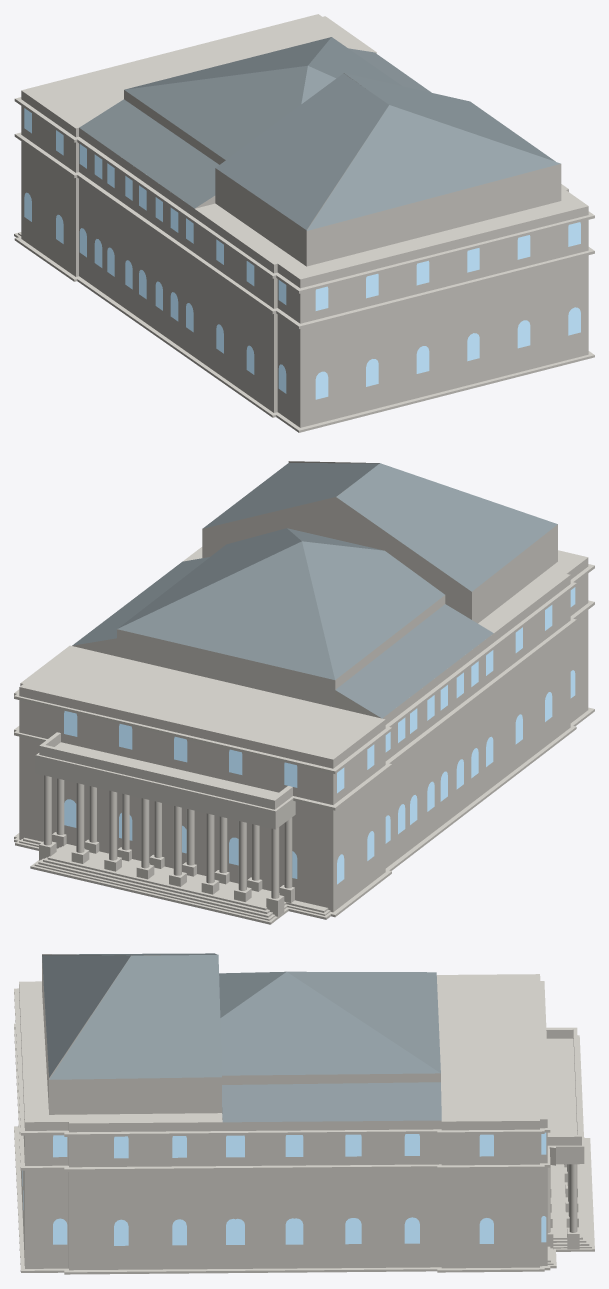
Rendered from detail.glb.
The picture shows the model from 3 angles, top to bottom: view 1: azimuth 30°, elevation 25°; view 2: azimuth 150°, elevation 25°; view 3: azimuth 270°, elevation 25°; orthographic projection. The views are drawn at different scales.
Visible parts, largest first — view 1: stone, roof, window; view 2: stone, roof, window; view 3: stone, roof, window.
Boxes of the visible parts, bbox=[...] form: stone: bbox=[14, 14, 594, 432]; roof: bbox=[79, 37, 560, 230]; window: bbox=[24, 108, 580, 399]; stone: bbox=[14, 461, 594, 924]; roof: bbox=[72, 463, 557, 718]; window: bbox=[64, 587, 575, 884]; stone: bbox=[14, 954, 594, 1274]; roof: bbox=[42, 953, 441, 1122]; window: bbox=[22, 1132, 546, 1245].
Size of the model in its own units: 37.58 by 28 by 60.11.
